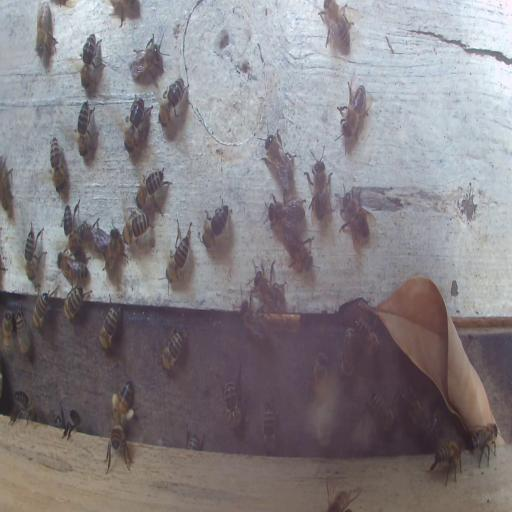nonpollenbee: (334, 76, 373, 148), (337, 183, 374, 248), (304, 142, 332, 224), (165, 218, 193, 286), (317, 0, 353, 52), (135, 166, 172, 216), (128, 32, 166, 80), (247, 263, 286, 309), (428, 437, 463, 488), (264, 128, 294, 186), (238, 294, 268, 350), (200, 200, 232, 252), (470, 420, 504, 468), (75, 97, 98, 165), (282, 228, 315, 274), (123, 95, 148, 154), (34, 0, 56, 67), (80, 33, 104, 94), (105, 422, 133, 473), (308, 350, 330, 414), (23, 222, 46, 282), (159, 80, 188, 127), (395, 384, 423, 432), (366, 390, 395, 436), (98, 298, 122, 350), (354, 315, 380, 360), (160, 326, 185, 370), (122, 212, 152, 248), (32, 286, 54, 332), (80, 219, 108, 254), (338, 326, 356, 380), (58, 252, 88, 284), (62, 202, 80, 254), (62, 284, 88, 320), (270, 198, 302, 227), (49, 136, 65, 194), (10, 390, 36, 424), (223, 377, 240, 428), (0, 156, 14, 215), (262, 399, 276, 453), (106, 225, 120, 279), (112, 0, 142, 23), (16, 308, 30, 357), (2, 309, 15, 360), (62, 406, 82, 439), (186, 430, 203, 450), (51, 410, 62, 428)
pollenbee: (110, 376, 136, 430)
